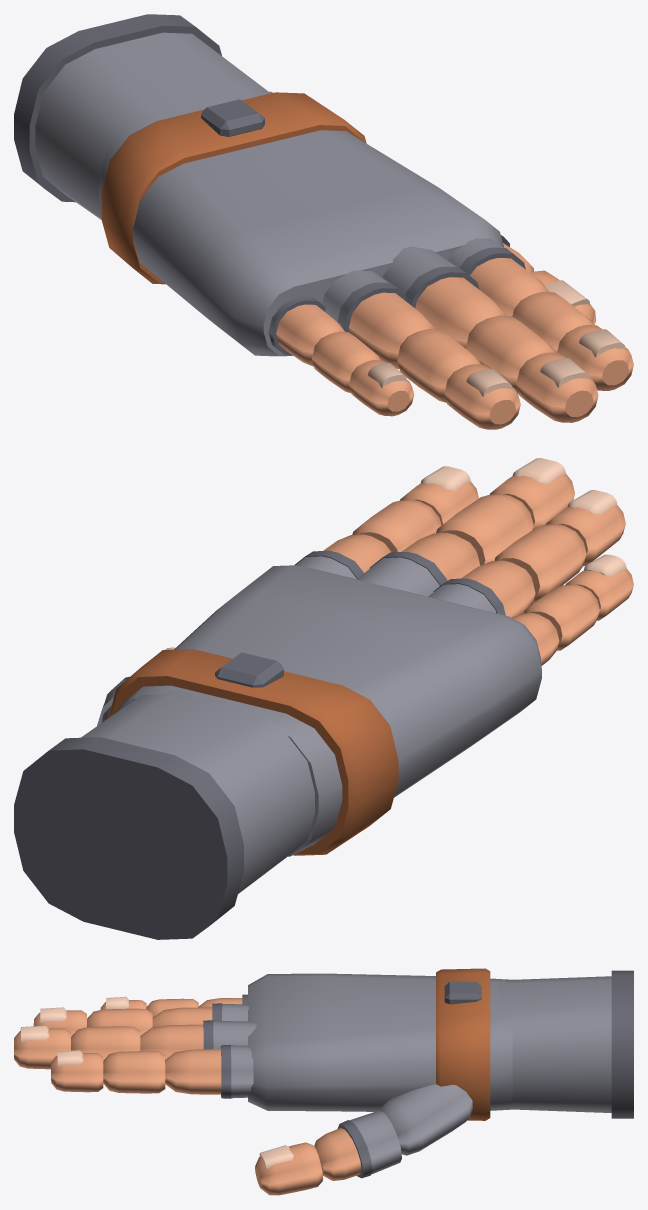
The model's file is main_gantee.glb.
3 renders of one model, top to bottom at view 1: azimuth 30°, elevation 25°; view 2: azimuth 150°, elevation 25°; view 3: azimuth 270°, elevation 25°, orthographic. The views are drawn at different scales.
Parts seen in each view (by area): view 1: main, manchette, majeur_1, annulaire_1, majeur_3, index_1, annulaire_3, majeur_2, annulaire_2, index_3, auriculaire_1, auriculaire_3 (+3 smaller); view 2: main, manchette, majeur_1, annulaire_2, annulaire_1, majeur_2, majeur_3, annulaire_3, index_2, auriculaire_2, index_1, index_3 (+2 smaller); view 3: main, manchette, pouce_2, pouce_1, index_1, majeur_1, pouce_3, index_2, index_3, majeur_3, majeur_2, annulaire_1 (+5 smaller).
Boxes of the visible parts, <box> form: main: <box>99,91,503,356</box>; manchette: <box>14,14,270,219</box>; majeur_1: <box>382,246,506,348</box>; annulaire_1: <box>322,270,435,368</box>; majeur_3: <box>516,352,598,422</box>; index_1: <box>447,238,549,315</box>; annulaire_3: <box>444,364,520,429</box>; majeur_2: <box>466,315,555,394</box>; annulaire_2: <box>397,329,480,402</box>; index_3: <box>557,325,633,390</box>; auriculaire_1: <box>268,297,345,366</box>; auriculaire_3: <box>349,360,414,416</box>; main: <box>108,565,541,856</box>; manchette: <box>14,690,314,939</box>; majeur_1: <box>357,532,480,596</box>; annulaire_2: <box>494,524,586,603</box>; annulaire_1: <box>428,560,535,617</box>; majeur_2: <box>436,494,533,565</box>; majeur_3: <box>490,458,574,529</box>; annulaire_3: <box>546,490,625,566</box>; index_2: <box>352,499,441,552</box>; auriculaire_2: <box>524,584,599,650</box>; index_1: <box>294,534,391,579</box>; index_3: <box>400,466,478,525</box>; main: <box>248,968,512,1120</box>; manchette: <box>498,970,633,1118</box>; pouce_2: <box>314,1110,401,1180</box>; pouce_1: <box>379,1084,472,1155</box>; index_1: <box>165,1044,253,1098</box>; majeur_1: <box>140,1020,256,1059</box>; pouce_3: <box>255,1142,323,1195</box>; index_2: <box>103,1051,165,1093</box>; index_3: <box>51,1050,103,1092</box>; majeur_3: <box>14,1025,70,1069</box>; majeur_2: <box>71,1026,140,1060</box>; annulaire_1: <box>152,1003,248,1027</box>.
Bounding box in the file's own units: 0.1208 × 0.0605 × 0.2505.
